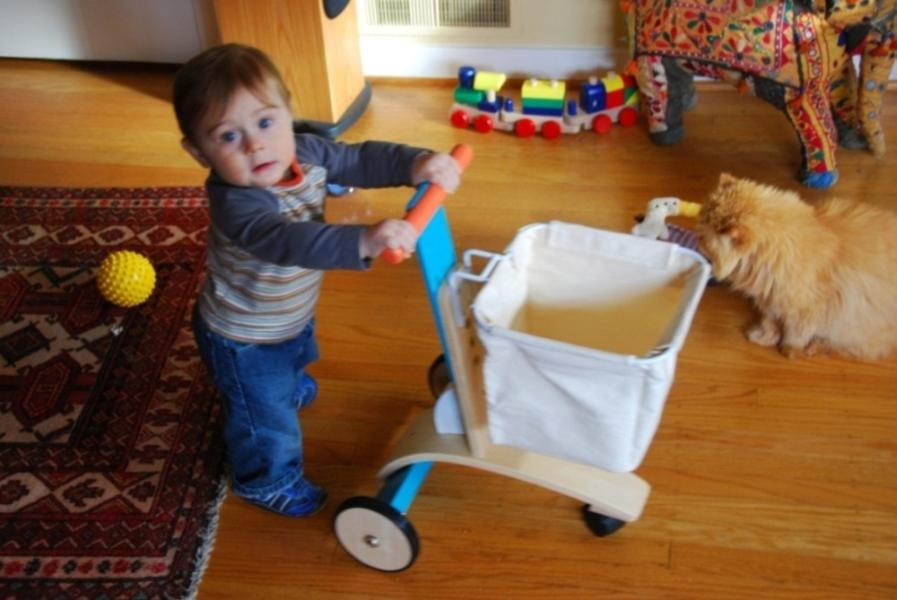person: (175, 44, 465, 521)
